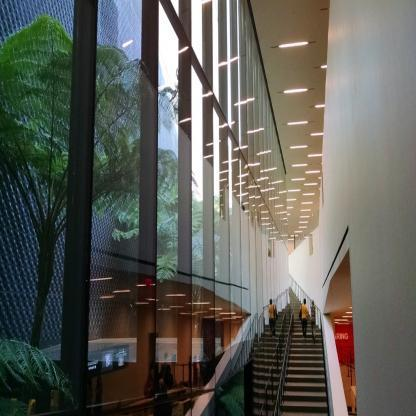stair: (277, 313, 336, 416)
